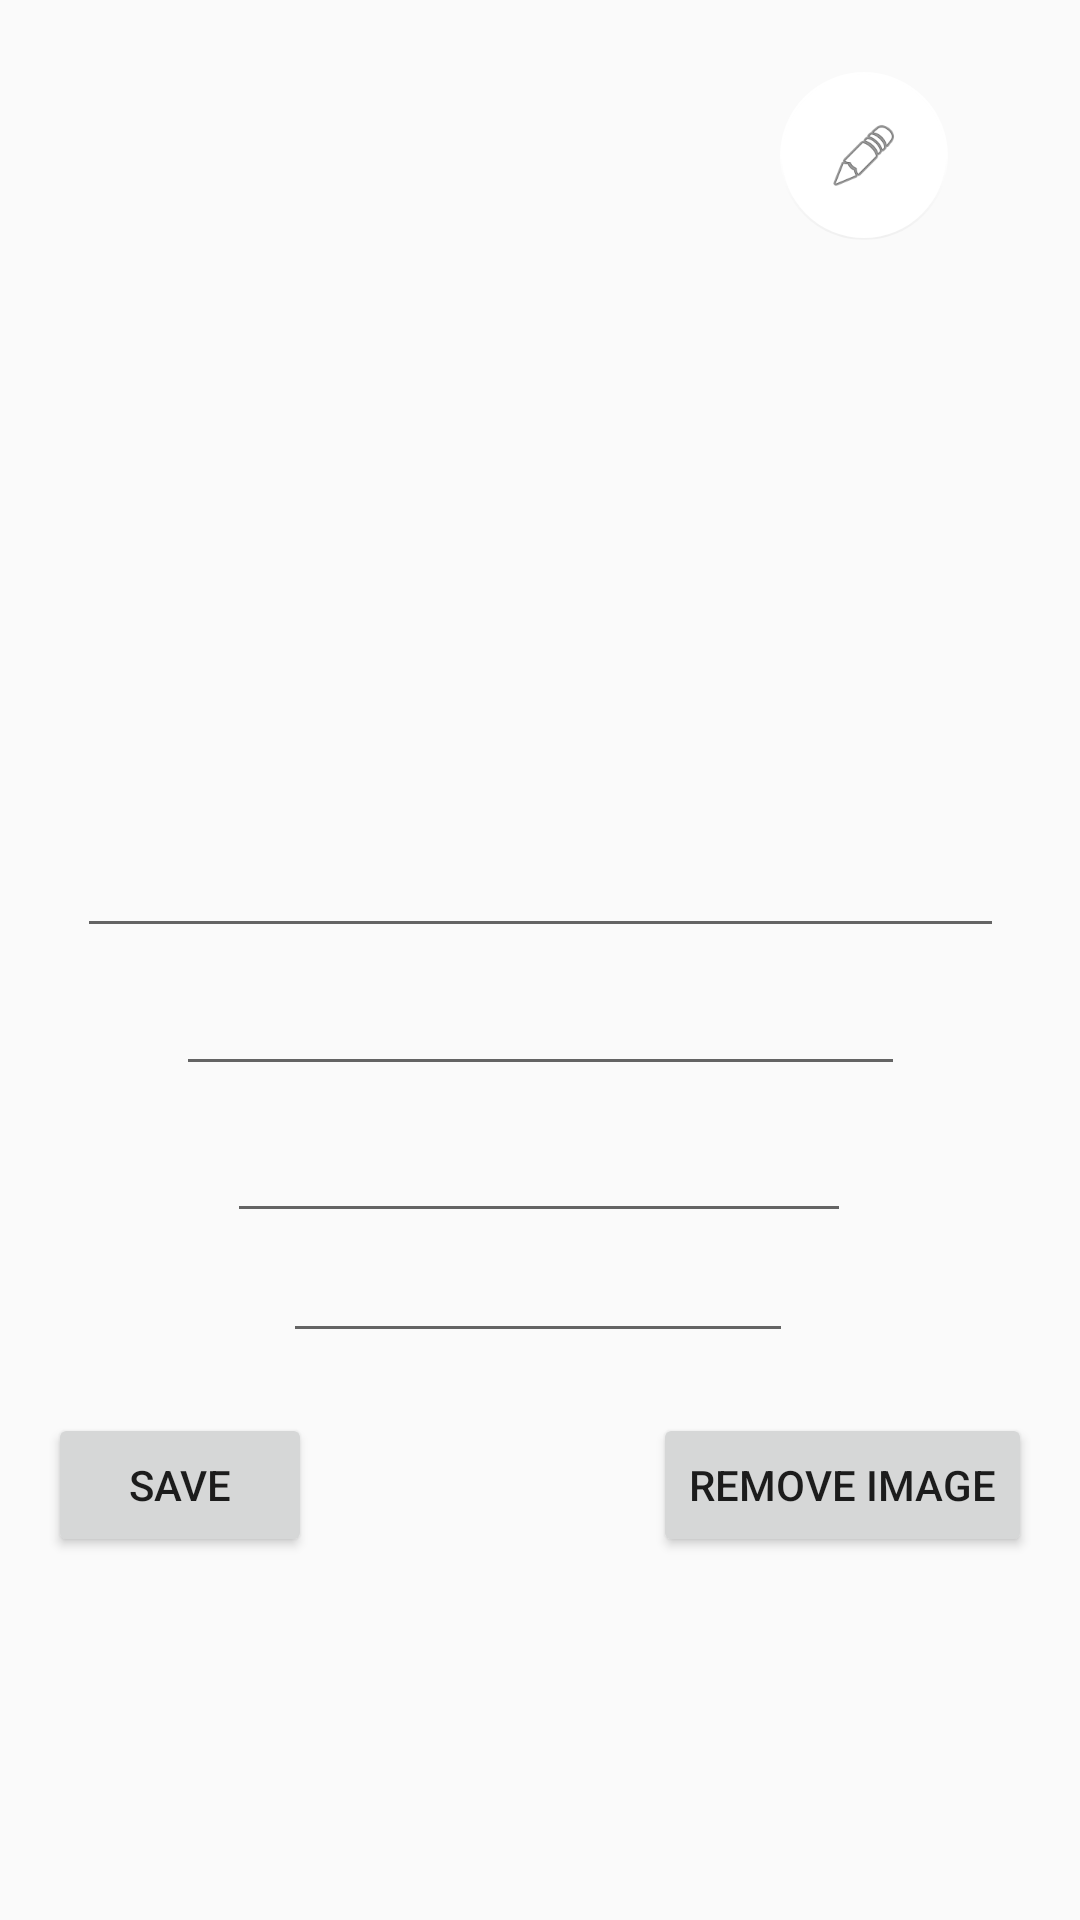

Icon click points for this 1080px x 1920px phone screenshot, format (x=x, y=y):
edit: (x=863, y=155)
